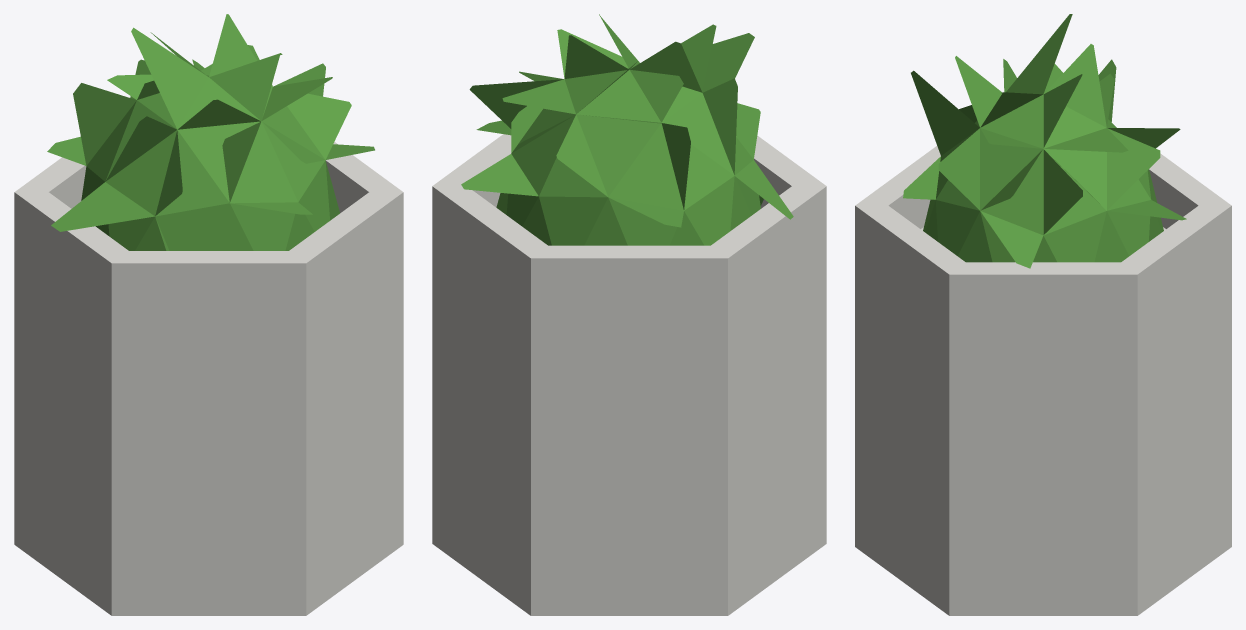
Rendered from plants-type-001.obj.
The picture shows the model from 3 angles, left to right: view 1: azimuth 30°, elevation 25°; view 2: azimuth 150°, elevation 25°; view 3: azimuth 270°, elevation 25°; orthographic projection. The views are drawn at different scales.
Visible parts, largest first — view 1: plants-type-001; view 2: plants-type-001; view 3: plants-type-001.
Boxes of the visible parts, box(x1,y1,x2,y2) form: plants-type-001: box(14, 14, 403, 615); plants-type-001: box(432, 14, 826, 615); plants-type-001: box(855, 14, 1231, 615).
Size of the model in its own units: 0.3878 by 0.6102 by 0.413.
